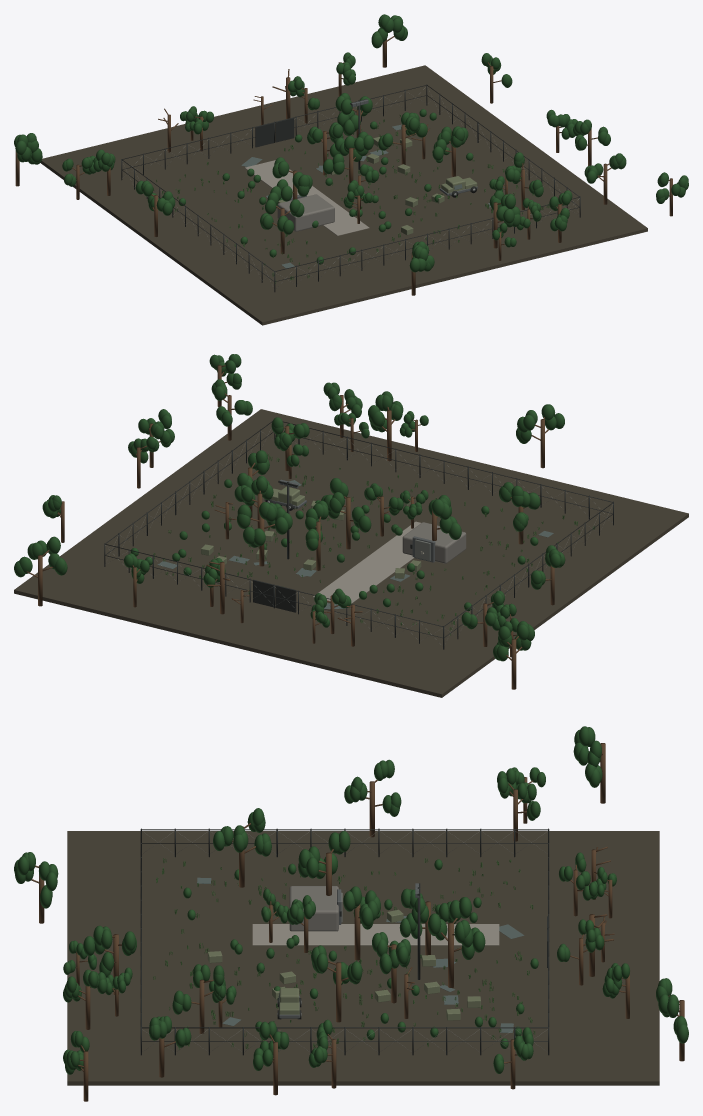
The model's file is shelter47_aaa_exterior.glb.
The picture shows the model from 3 angles, top to bottom: view 1: azimuth 30°, elevation 25°; view 2: azimuth 150°, elevation 25°; view 3: azimuth 270°, elevation 25°; orthographic projection. The views are drawn at different scales.
Parts seen in each view (by area): view 1: Ground, Path, SurfaceBunker; view 2: Ground, Path, SurfaceBunker; view 3: Ground, Path, SurfaceBunker, FWTop, FETop.
Part boxes in pixels (x1,y1,x2,y2): Ground: [40, 65, 647, 325]; Path: [245, 160, 369, 235]; SurfaceBunker: [277, 194, 334, 231]; Ground: [14, 409, 688, 697]; Path: [313, 521, 420, 603]; SurfaceBunker: [402, 522, 466, 563]; Ground: [67, 831, 659, 1085]; Path: [252, 924, 499, 945]; SurfaceBunker: [289, 886, 338, 931]; FWTop: [142, 829, 547, 830]; FETop: [142, 1027, 547, 1028].
Size of the model in its own units: 60.05 by 8.6 by 54.71.
